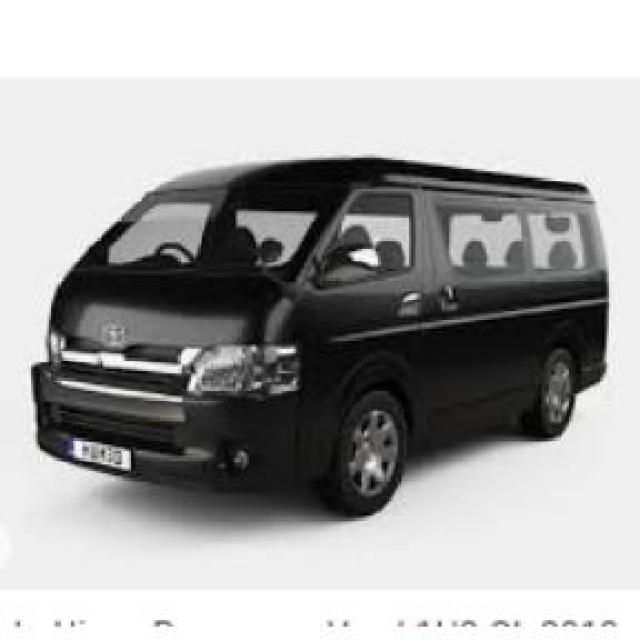Van: (30, 139, 610, 519)
